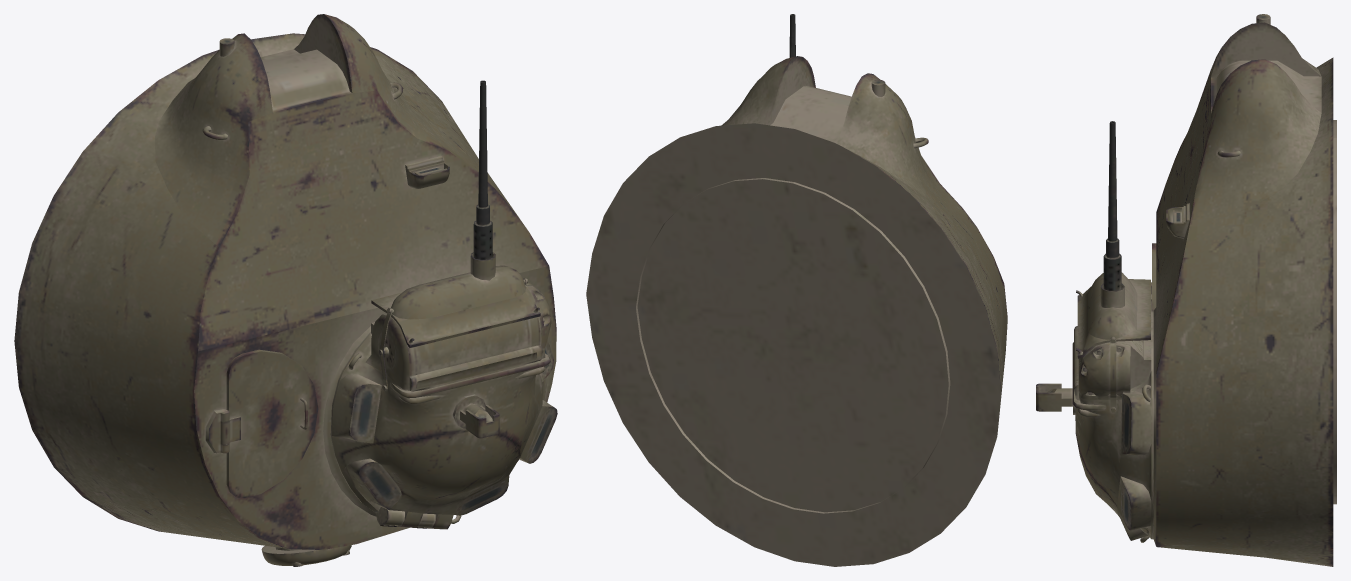
File: Turret_01.glb
3 views of the same model, side by side, from view 1: azimuth 30°, elevation 25°; view 2: azimuth 150°, elevation 25°; view 3: azimuth 270°, elevation 25° (orthographic). The views are drawn at different scales.
Visible parts, largest first — view 1: set_0_group_0; view 2: set_0_group_0; view 3: set_0_group_0.
Part boxes in pixels (bbox=[...]): set_0_group_0: bbox=[14, 14, 557, 566]; set_0_group_0: bbox=[586, 14, 1007, 566]; set_0_group_0: bbox=[1036, 14, 1336, 566].
Size of the model in its own units: 2.14 by 2.31 by 1.26.
Materials: 1 (1 with a texture image).
